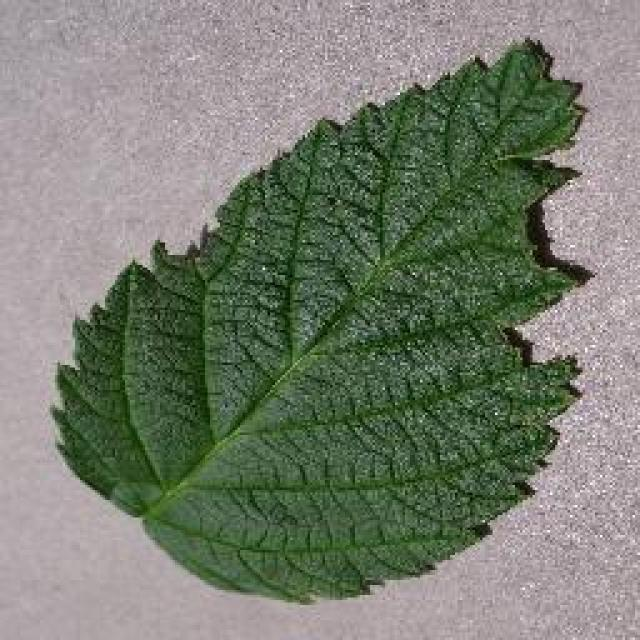Ras_healthy: (124, 110, 546, 540)
